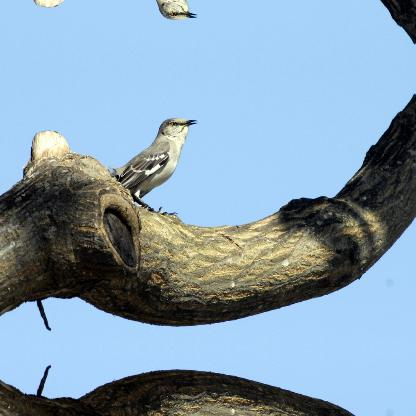Bird: (104, 116, 196, 212), (104, 0, 197, 20)
